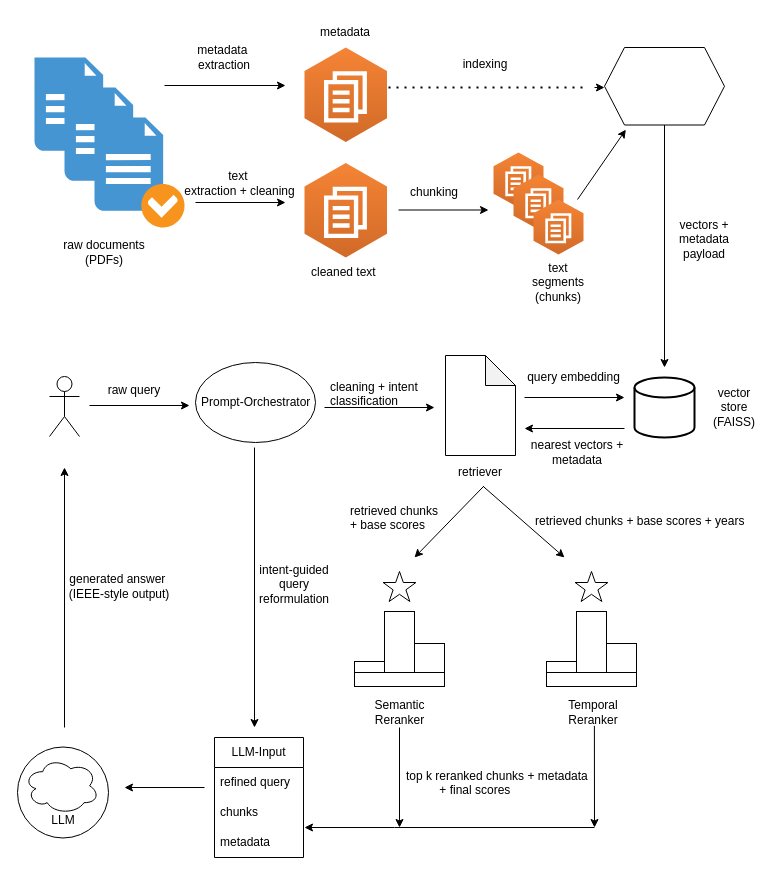
This 782x875 diagram has some shape labels left out. The centre of each missing label's shape, as x and y in pixels:
"embedding" goes at (x=664, y=85).
"user" goes at (x=64, y=406).
